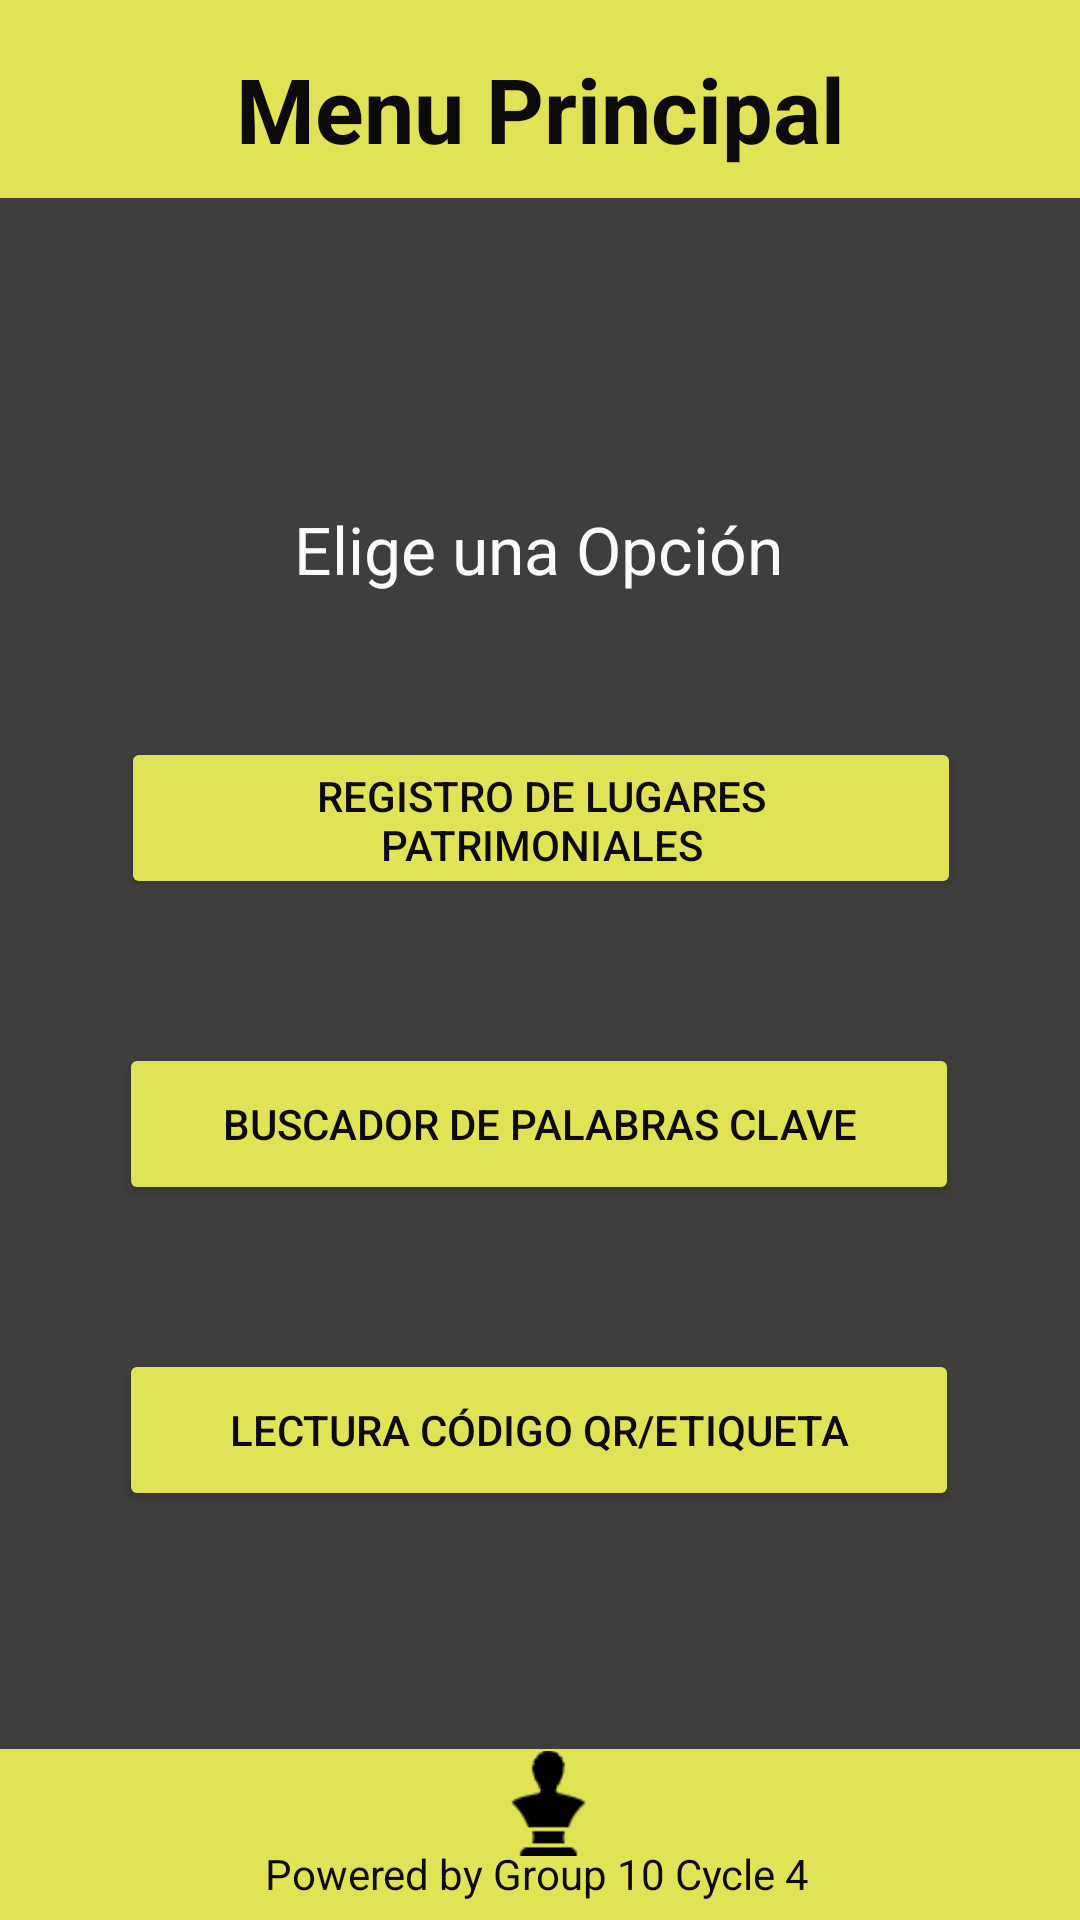

Screen size 1080px x 1920px. Icon name, then its center in pixels as (x=x, y=y):
busto: (x=548, y=1803)
